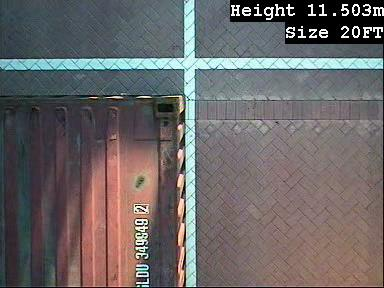groundmarker_2: (123, 68, 232, 133)
